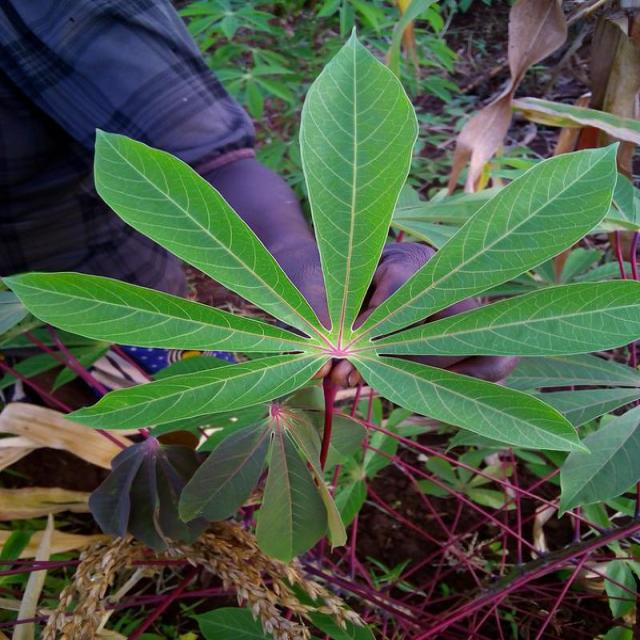cassava leaf: (4, 24, 638, 568), (351, 139, 621, 341), (94, 126, 332, 339), (298, 25, 420, 342)
